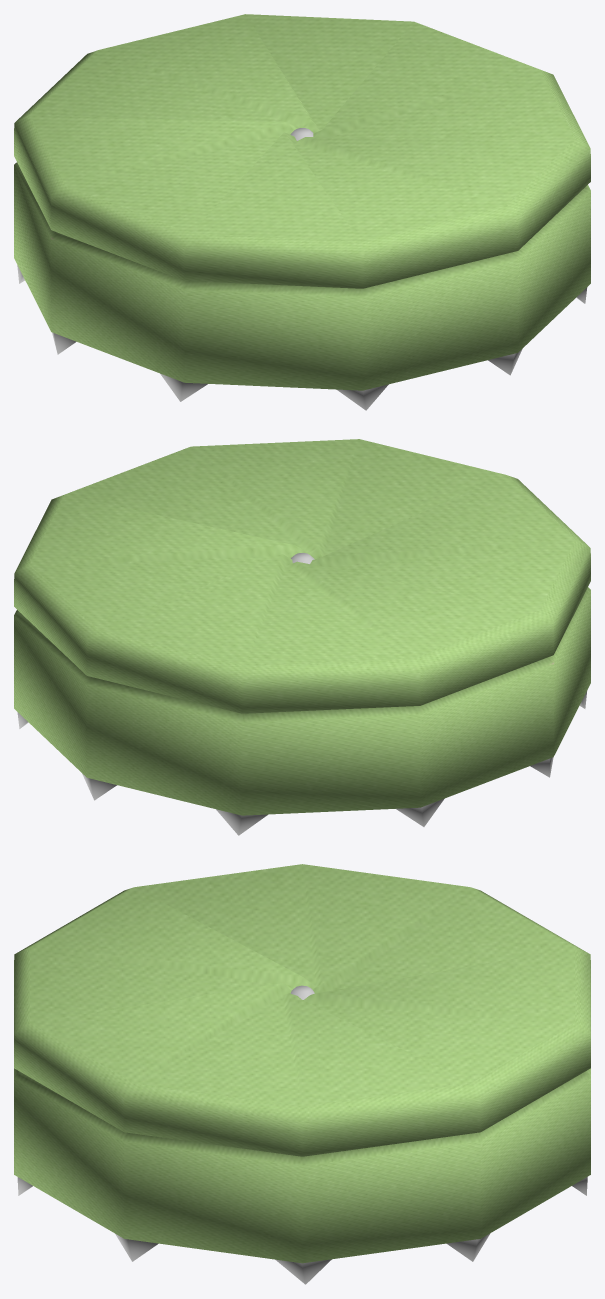
File: Ottoman_B_16.FBX
The picture shows the model from 3 angles, top to bottom: view 1: azimuth 30°, elevation 25°; view 2: azimuth 150°, elevation 25°; view 3: azimuth 270°, elevation 25°; orthographic projection. The views are drawn at different scales.
Visible parts, largest first — view 1: Ottoman_02; view 2: Ottoman_02; view 3: Ottoman_02.
Boxes of the visible parts, x1,y1,x2,y2 form: Ottoman_02: [14, 14, 590, 410]; Ottoman_02: [14, 439, 590, 835]; Ottoman_02: [14, 864, 590, 1284].
Size of the model in its own units: 232 by 73.27 by 220.
